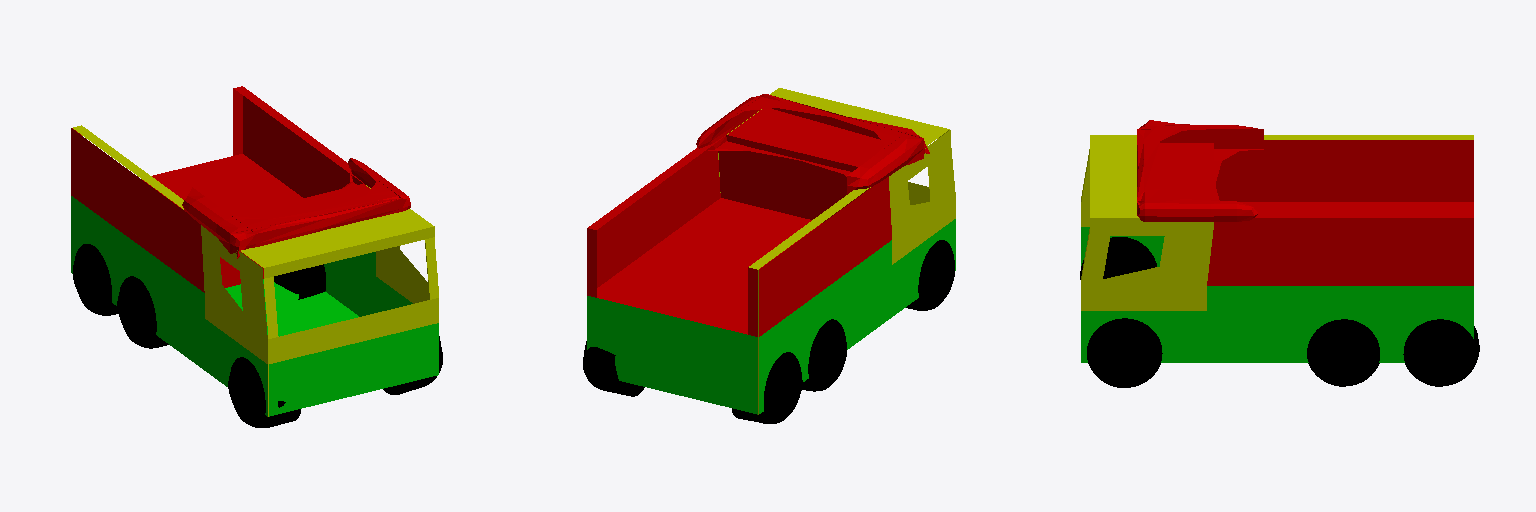
Rendered from car.obj.
The picture shows the model from 3 angles: view 1: azimuth 30°, elevation 25°; view 2: azimuth 150°, elevation 25°; view 3: azimuth 270°, elevation 25°; orthographic projection.
Parts seen in each view (by area): view 1: Cube_Cube.001, Cube.001_Cube.002, Sphere.003, Sphere.002_Sphere.005, Sphere.005_Sphere.007, Sphere.004_Sphere.006; view 2: Cube_Cube.001, Cube.001_Cube.002, Sphere.005_Sphere.007, Sphere.002_Sphere.005, Sphere.003, Sphere.006_Sphere.008; view 3: Cube_Cube.001, Cube.001_Cube.002, Sphere.001_Sphere.004, Sphere.006_Sphere.008, Sphere.004_Sphere.006, Sphere.003.
Part boxes in pixels (left/top/right/bottom): Cube_Cube.001: left=71, top=86, right=438, bottom=416; Cube.001_Cube.002: left=182, top=158, right=410, bottom=258; Sphere.003: left=228, top=357, right=300, bottom=427; Sphere.002_Sphere.005: left=117, top=276, right=168, bottom=348; Sphere.005_Sphere.007: left=73, top=244, right=117, bottom=315; Sphere.004_Sphere.006: left=274, top=264, right=325, bottom=299; Cube_Cube.001: left=587, top=88, right=955, bottom=414; Cube.001_Cube.002: left=696, top=94, right=929, bottom=194; Sphere.005_Sphere.007: left=732, top=352, right=802, bottom=423; Sphere.002_Sphere.005: left=802, top=319, right=846, bottom=391; Sphere.003: left=906, top=240, right=954, bottom=310; Sphere.006_Sphere.008: left=583, top=341, right=644, bottom=396; Cube_Cube.001: left=1081, top=135, right=1473, bottom=362; Cube.001_Cube.002: left=1137, top=120, right=1263, bottom=221; Sphere.001_Sphere.004: left=1087, top=318, right=1162, bottom=387; Sphere.006_Sphere.008: left=1403, top=319, right=1479, bottom=386; Sphere.004_Sphere.006: left=1307, top=319, right=1379, bottom=386; Sphere.003: left=1080, top=237, right=1156, bottom=279.
Size of the model in its own units: 2.9 by 2.63 by 5.18.